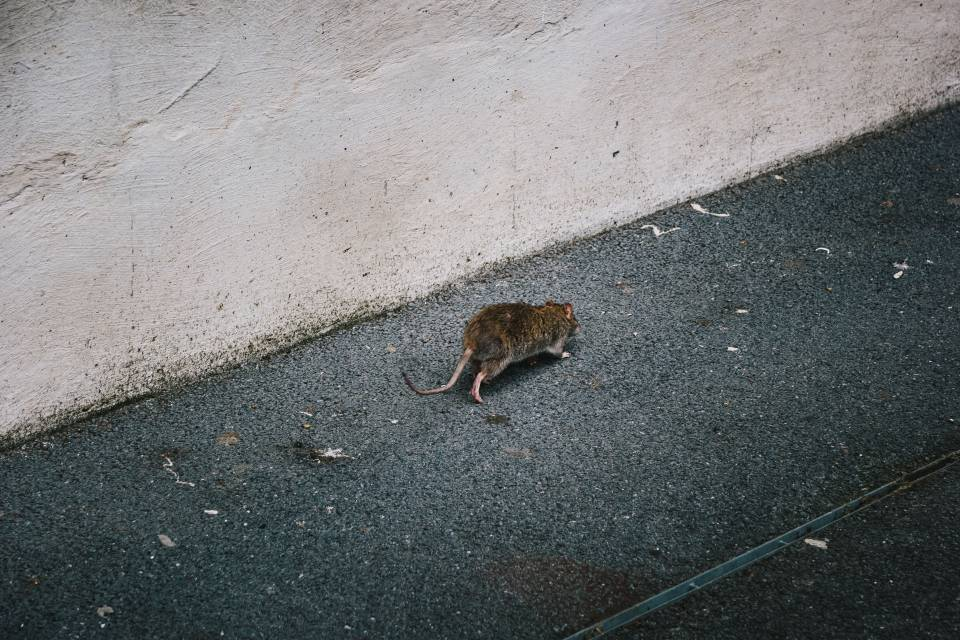rat: (392, 292, 599, 411)
